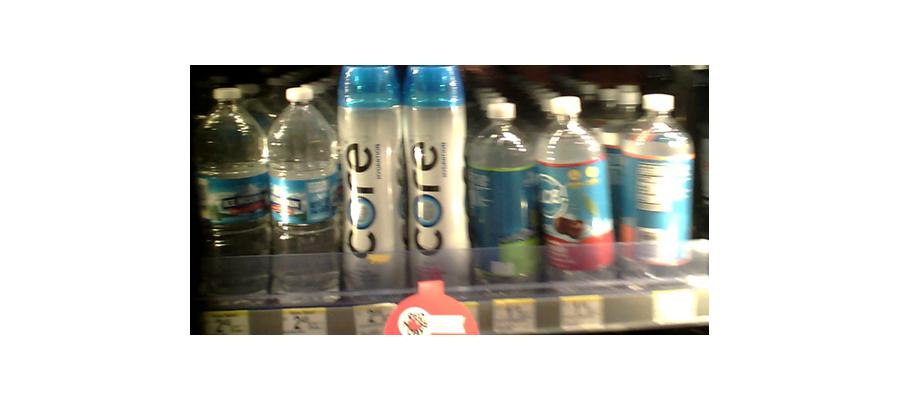bottle: (336, 62, 406, 299), (401, 64, 469, 296), (267, 83, 338, 300), (537, 92, 614, 292), (615, 89, 694, 282), (194, 88, 264, 304), (471, 100, 534, 285)
